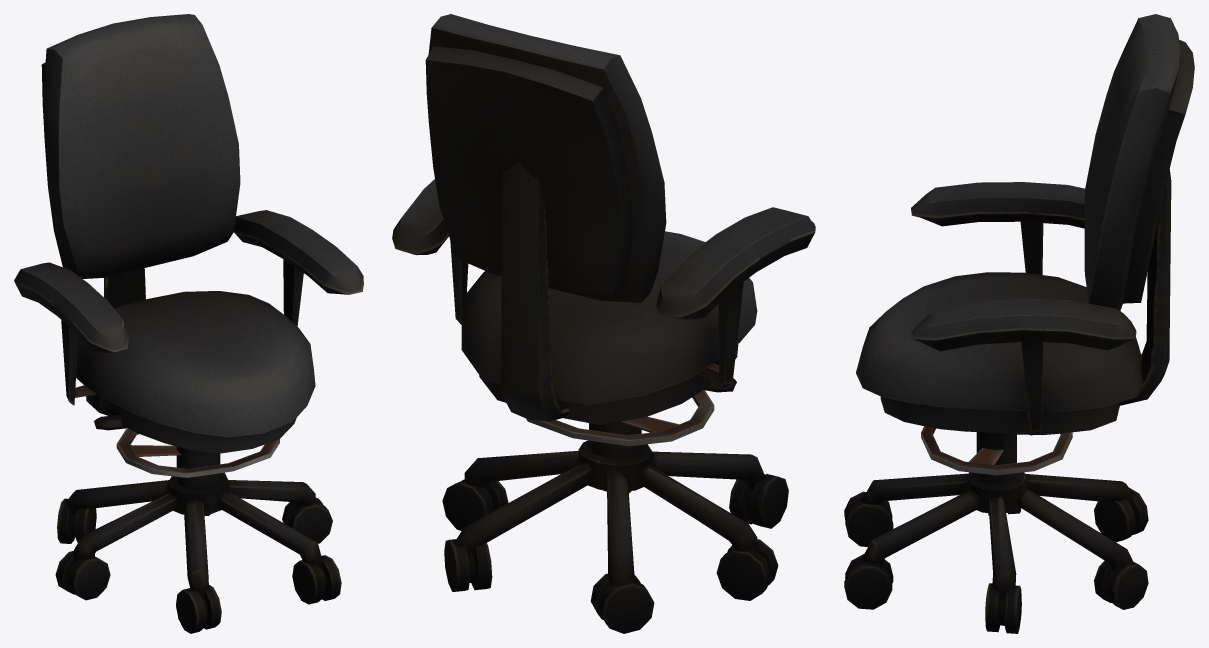
File: SM_Simulator_Chair.FBX
The picture shows the model from 3 angles, left to right: view 1: azimuth 30°, elevation 25°; view 2: azimuth 150°, elevation 25°; view 3: azimuth 270°, elevation 25°; orthographic projection. The views are drawn at different scales.
Visible parts, largest first — view 1: SM_Simulator_Chair; view 2: SM_Simulator_Chair; view 3: SM_Simulator_Chair.
Part boxes in pixels (x1,y1,x2,y2): SM_Simulator_Chair: (14, 14, 363, 633); SM_Simulator_Chair: (392, 14, 815, 633); SM_Simulator_Chair: (844, 14, 1194, 633).
Bounding box in the file's own units: 69.24 × 71.41 × 118.
